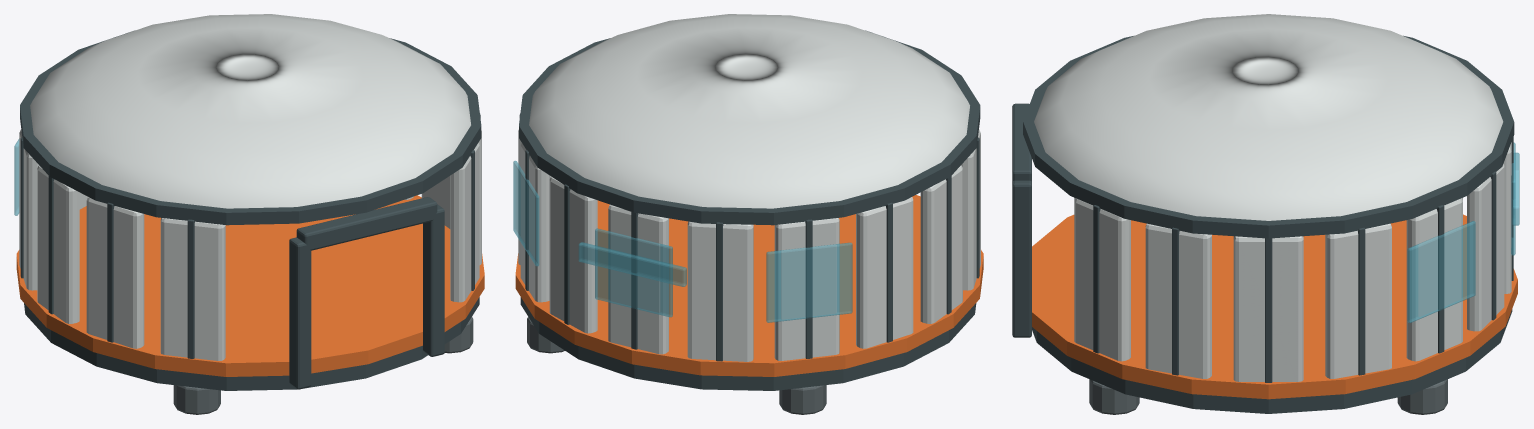
Rendered from multipurpose_habitat_pod.glb.
3 renders of one model, left to right at view 1: azimuth 30°, elevation 25°; view 2: azimuth 150°, elevation 25°; view 3: azimuth 270°, elevation 25°, orthographic. The views are drawn at different scales.
Visible parts, largest first — view 1: Pressure_Hull_Dome, Lower_Hull_Ring, Upper_Hull_Ring, Hull_Panel_10, Hull_Panel_09, Pod_Floor, Hull_Panel_08, Hull_Panel_14, Hatch_Header, Hatch_Jamb, Hatch_Jamb.001, Hull_Panel_07 (+9 smaller); view 2: Pressure_Hull_Dome, Lower_Hull_Ring, Upper_Hull_Ring, Hull_Panel_05, Hull_Panel_06, Hull_Panel_04, Hull_Panel_07, Pod_Floor, Observation_Window_3, Hull_Panel_03, Observation_Window_2, Hull_Panel_08 (+14 smaller); view 3: Pressure_Hull_Dome, Lower_Hull_Ring, Upper_Hull_Ring, Hull_Panel_00, Hull_Panel_01, Hull_Panel_15, Hull_Panel_14, Hull_Panel_02, Pod_Floor, Observation_Window_1, Hull_Panel_03, Hatch_Jamb.001 (+12 smaller).
Part boxes in pixels (x1,y1,x2,y2): Pressure_Hull_Dome: (30,14,470,208); Lower_Hull_Ring: (16,195,484,376); Upper_Hull_Ring: (20,30,481,225); Hull_Panel_10: (160,218,225,360); Hull_Panel_09: (86,197,144,348); Pod_Floor: (24,297,479,390); Hull_Panel_08: (37,165,79,323); Hull_Panel_14: (450,143,479,302); Hatch_Header: (296,197,437,250); Hatch_Jamb: (289,237,311,389); Hatch_Jamb.001: (423,204,444,356); Hull_Panel_07: (19,129,38,290); Pressure_Hull_Dome: (529,14,969,208); Lower_Hull_Ring: (515,195,983,376); Upper_Hull_Ring: (519,30,980,225); Hull_Panel_05: (687,221,753,361); Hull_Panel_06: (774,218,839,360); Hull_Panel_04: (608,204,668,354); Hull_Panel_07: (856,197,913,348); Pod_Floor: (520,297,976,390); Observation_Window_3: (766,242,852,322); Hull_Panel_03: (549,176,597,333); Observation_Window_2: (595,228,672,317); Hull_Panel_08: (920,165,962,323); Pressure_Hull_Dome: (1034,14,1503,220); Lower_Hull_Ring: (1032,214,1517,399); Upper_Hull_Ring: (1023,35,1514,238); Hull_Panel_00: (1233,236,1303,381); Hull_Panel_01: (1325,223,1391,378); Hull_Panel_15: (1145,223,1211,378); Hull_Panel_14: (1074,198,1130,361); Hull_Panel_02: (1406,198,1462,361); Pod_Floor: (1032,309,1512,413); Observation_Window_1: (1407,221,1475,322); Hull_Panel_03: (1467,163,1504,331); Hatch_Jamb.001: (1012,180,1031,337).
Size of the model in its own units: 5.56 by 3.31 by 5.66.
